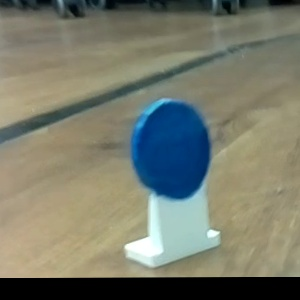circle: (109, 93, 228, 272)
